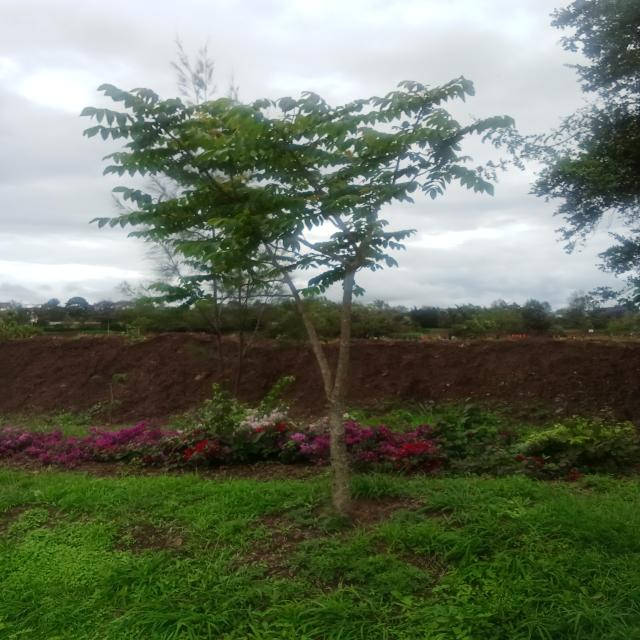Polyscias Kikuyensis: (82, 74, 530, 507)
